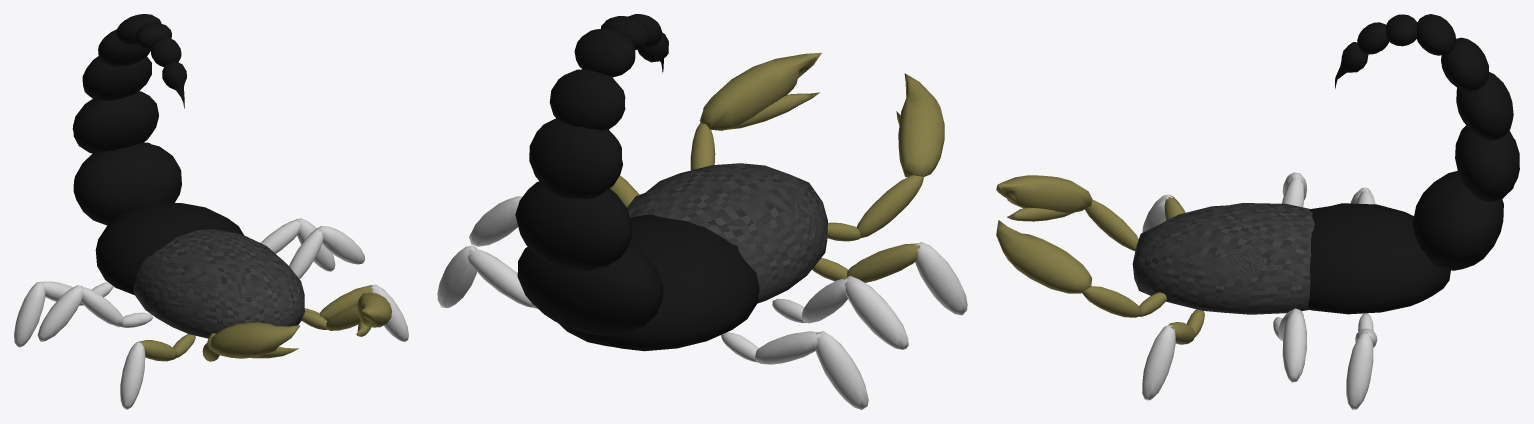
File: scorpion_000011.obj
The picture shows the model from 3 angles, left to right: view 1: azimuth 30°, elevation 25°; view 2: azimuth 150°, elevation 25°; view 3: azimuth 270°, elevation 25°; orthographic projection. The views are drawn at different scales.
Visible parts, largest first — view 1: Sphere.010_Sphere.012, Sphere.002_Sphere.004, Sphere.011_Sphere.013, Sphere.003_Sphere.005, Sphere.030_Sphere.000, Sphere.012_Sphere.020, Sphere.004_Sphere.006, Sphere.000_Sphere.019, Sphere.014_Sphere.023, Sphere.016_Sphere.022, Sphere.013_Sphere.017, Sphere.005_Sphere.007 (+9 smaller); view 2: Sphere.010_Sphere.012, Sphere.011_Sphere.013, Sphere.002_Sphere.004, Sphere.030_Sphere.000, Sphere.003_Sphere.005, Sphere.004_Sphere.006, Sphere.012_Sphere.020, Sphere.005_Sphere.007, Sphere.014_Sphere.023, Sphere.018_Sphere.025, Sphere.028_Sphere.046, Sphere.006_Sphere.008 (+11 smaller); view 3: Sphere.010_Sphere.012, Sphere.011_Sphere.013, Sphere.030_Sphere.000, Sphere.002_Sphere.004, Sphere.003_Sphere.005, Sphere.004_Sphere.006, Sphere.028_Sphere.046, Sphere.000_Sphere.019, Sphere.005_Sphere.007, Sphere.012_Sphere.020, Sphere.014_Sphere.023, Sphere.006_Sphere.008 (+6 smaller).
Part boxes in pixels (<box>): Sphere.010_Sphere.012: <box>133,229,304,338</box>; Sphere.002_Sphere.004: <box>73,142,181,225</box>; Sphere.011_Sphere.013: <box>95,203,243,295</box>; Sphere.003_Sphere.005: <box>72,91,158,153</box>; Sphere.030_Sphere.000: <box>209,293,391,358</box>; Sphere.012_Sphere.020: <box>37,226,364,341</box>; Sphere.004_Sphere.006: <box>82,56,151,100</box>; Sphere.000_Sphere.019: <box>120,284,408,409</box>; Sphere.014_Sphere.023: <box>14,218,335,347</box>; Sphere.016_Sphere.022: <box>81,227,323,327</box>; Sphere.013_Sphere.017: <box>136,285,372,361</box>; Sphere.005_Sphere.007: <box>98,29,150,66</box>; Sphere.010_Sphere.012: <box>627,163,827,303</box>; Sphere.011_Sphere.013: <box>558,214,759,351</box>; Sphere.002_Sphere.004: <box>517,244,663,335</box>; Sphere.030_Sphere.000: <box>699,52,944,177</box>; Sphere.003_Sphere.005: <box>515,181,632,270</box>; Sphere.004_Sphere.006: <box>529,118,622,199</box>; Sphere.012_Sphere.020: <box>469,196,908,349</box>; Sphere.005_Sphere.007: <box>549,69,625,130</box>; Sphere.014_Sphere.023: <box>437,245,868,409</box>; Sphere.018_Sphere.025: <box>468,248,820,364</box>; Sphere.028_Sphere.046: <box>690,122,923,237</box>; Sphere.006_Sphere.008: <box>574,28,635,77</box>; Sphere.010_Sphere.012: <box>1132,203,1314,314</box>; Sphere.011_Sphere.013: <box>1308,203,1450,314</box>; Sphere.030_Sphere.000: <box>996,175,1092,293</box>; Sphere.002_Sphere.004: <box>1412,170,1503,270</box>; Sphere.003_Sphere.005: <box>1455,125,1519,202</box>; Sphere.004_Sphere.006: <box>1456,72,1513,140</box>; Sphere.028_Sphere.046: <box>1082,199,1141,317</box>; Sphere.000_Sphere.019: <box>1142,194,1175,400</box>; Sphere.005_Sphere.007: <box>1441,37,1488,91</box>; Sphere.012_Sphere.020: <box>1282,172,1306,382</box>; Sphere.014_Sphere.023: <box>1346,187,1373,409</box>; Sphere.006_Sphere.008: <box>1416,14,1456,55</box>.
Bounding box in the file's own units: 0.965 × 0.7611 × 1.18.
